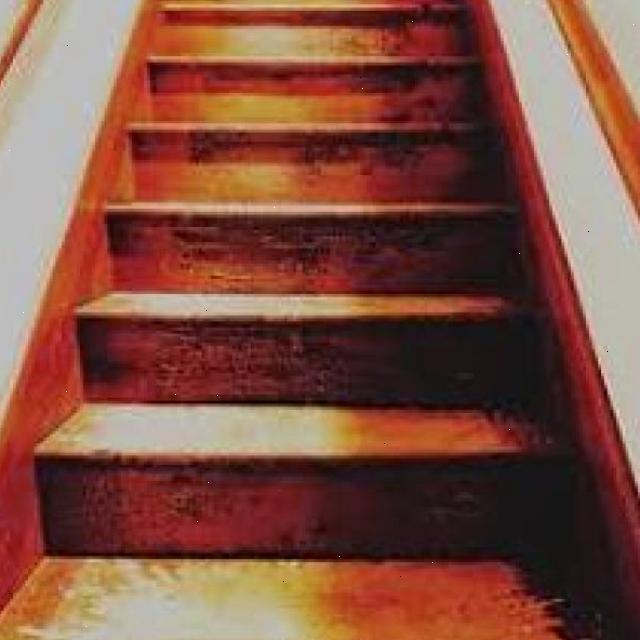stair: (16, 209, 589, 498)
